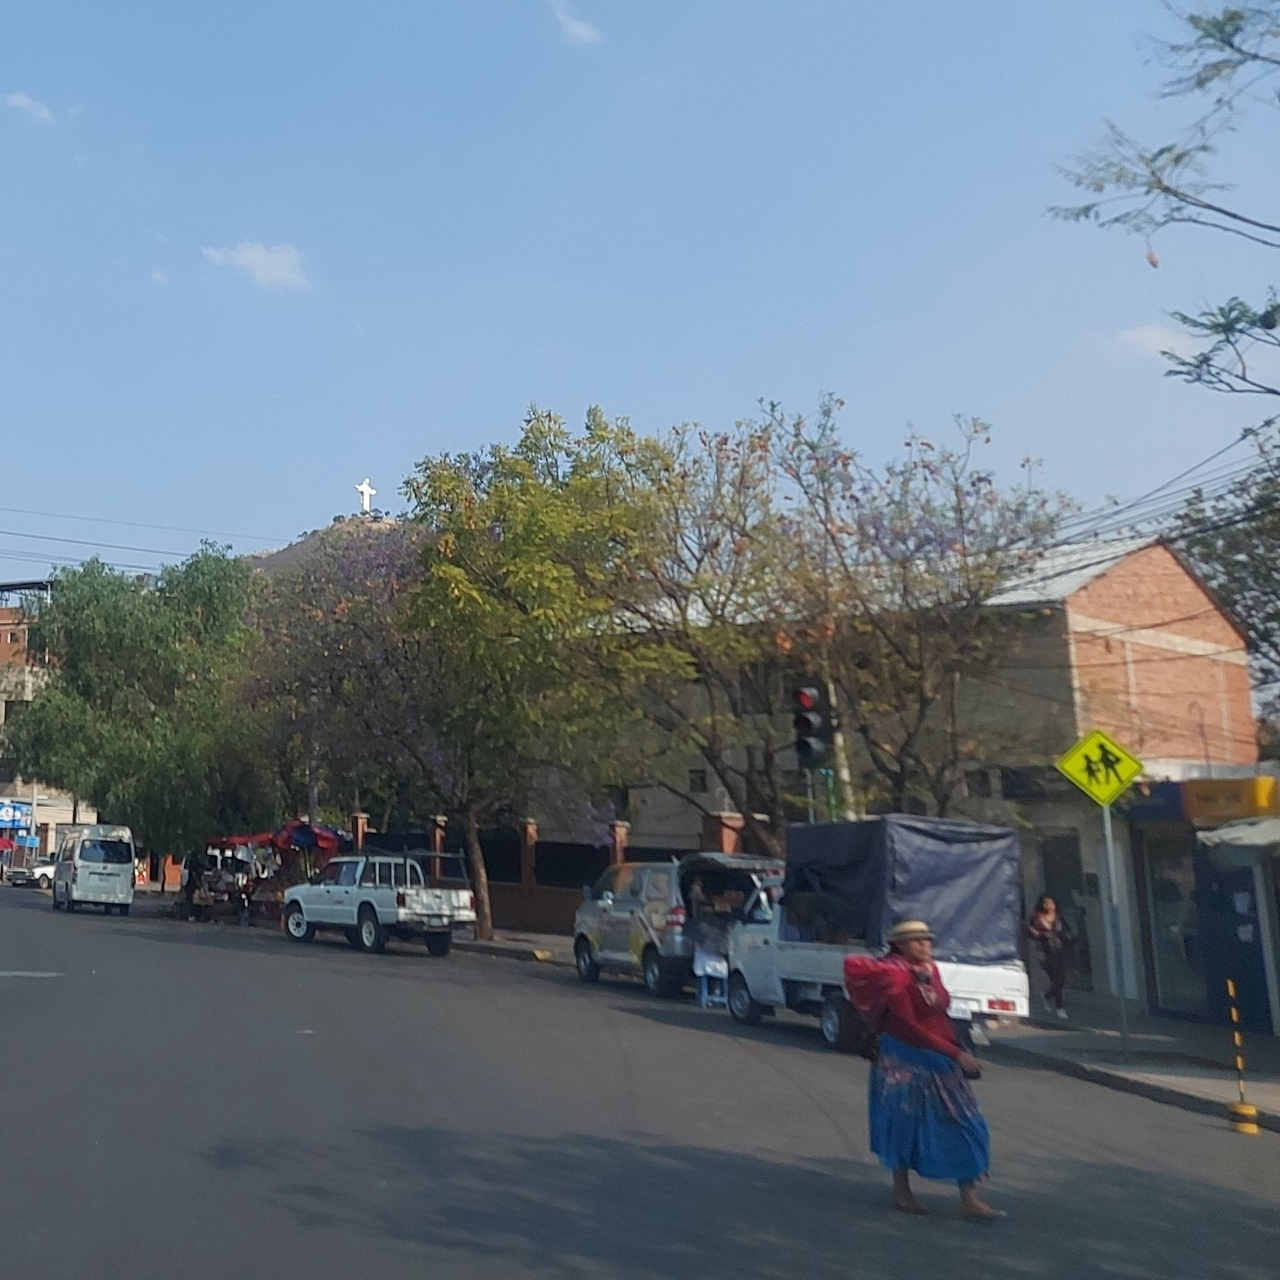zona-escolar: (1053, 733, 1143, 808)
